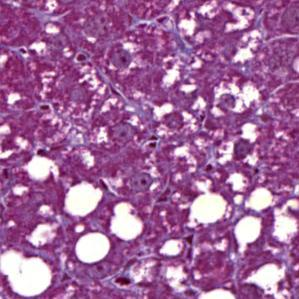steatosis: (76, 228, 110, 265)
